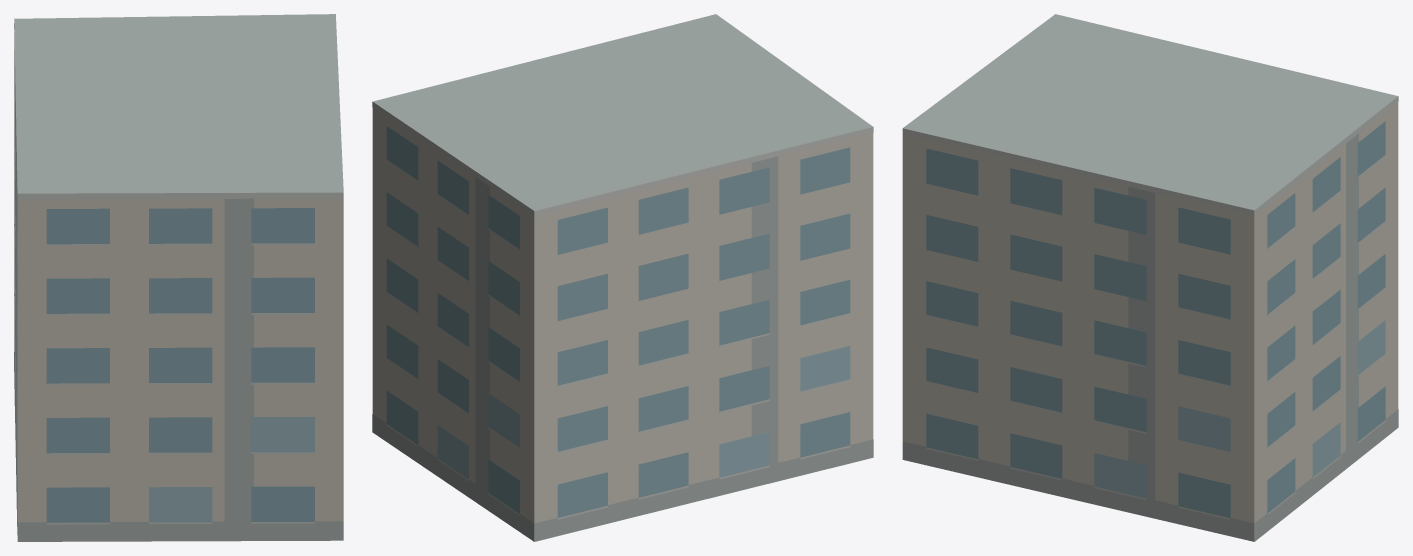
The model's file is survey-upis-32877621.glb.
The picture shows the model from 3 angles, left to right: view 1: azimuth 30°, elevation 25°; view 2: azimuth 150°, elevation 25°; view 3: azimuth 270°, elevation 25°; orthographic projection. The views are drawn at different scales.
Parts seen in each view (by area): view 1: survey-upis-32877621.tmp; view 2: survey-upis-32877621.tmp; view 3: survey-upis-32877621.tmp.
Boxes of the visible parts, x1,y1,x2,y2 form: survey-upis-32877621.tmp: (14,14,343,541); survey-upis-32877621.tmp: (372,14,873,541); survey-upis-32877621.tmp: (902,14,1398,541).
Bounding box in the file's own units: 18.05 × 14.2 × 19.26.
